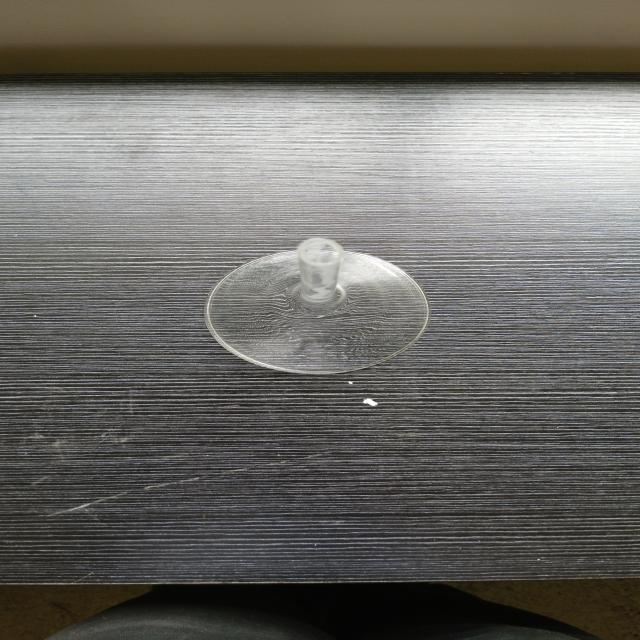funnel: (190, 229, 448, 378)
